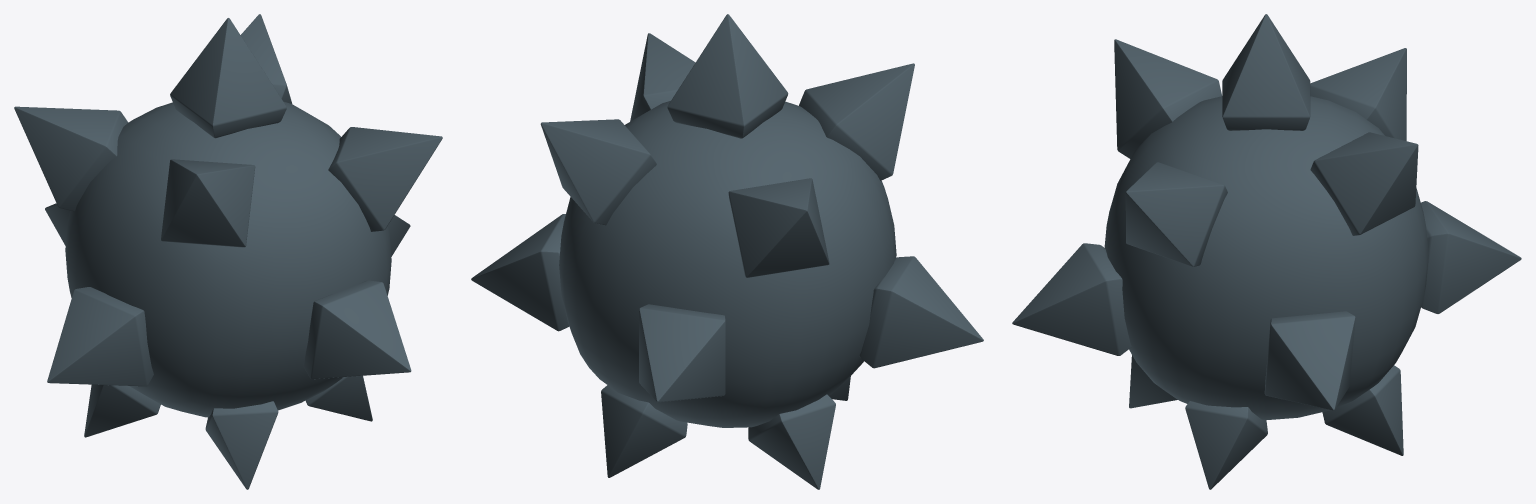
Rendered from Blade_Mace.fbx.
3 views of the same model, side by side, from view 1: azimuth 30°, elevation 25°; view 2: azimuth 150°, elevation 25°; view 3: azimuth 270°, elevation 25° (orthographic). The views are drawn at different scales.
Visible parts, largest first — view 1: Blade_Mace; view 2: Blade_Mace; view 3: Blade_Mace.
Boxes of the visible parts, left/top/right/bottom form: Blade_Mace: left=14, top=14, right=442, bottom=489; Blade_Mace: left=471, top=14, right=983, bottom=489; Blade_Mace: left=1012, top=14, right=1521, bottom=489.
Size of the model in its own units: 397 by 363 by 401.
